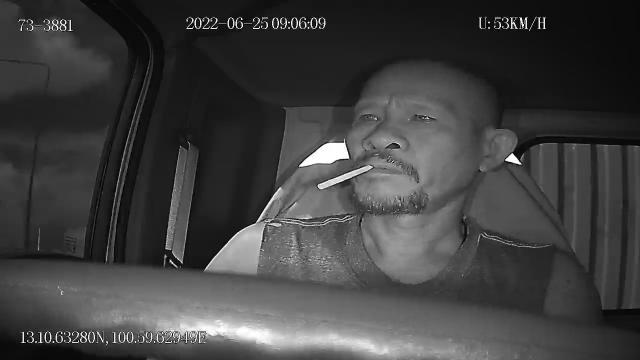SafeDriving: (400, 101, 445, 130), (352, 103, 388, 128)
Smoking: (316, 165, 374, 191)
